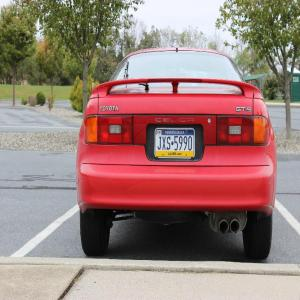Vehicle-registration-plate: (152, 124, 207, 169)
